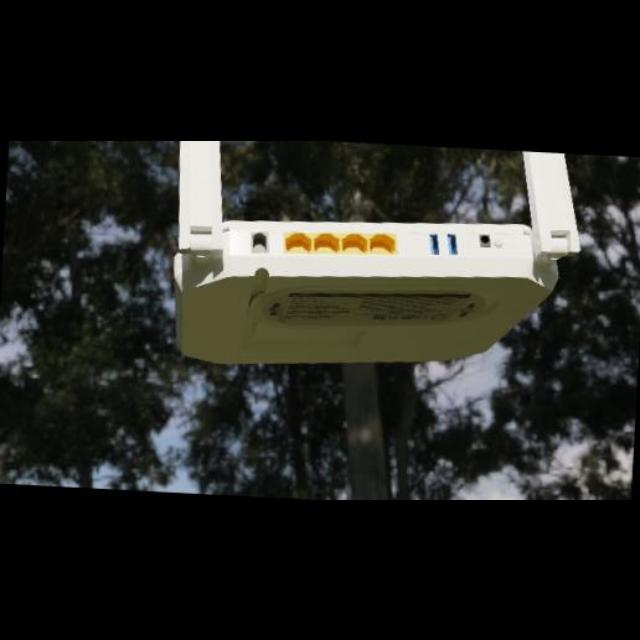Router: (164, 140, 588, 376)
